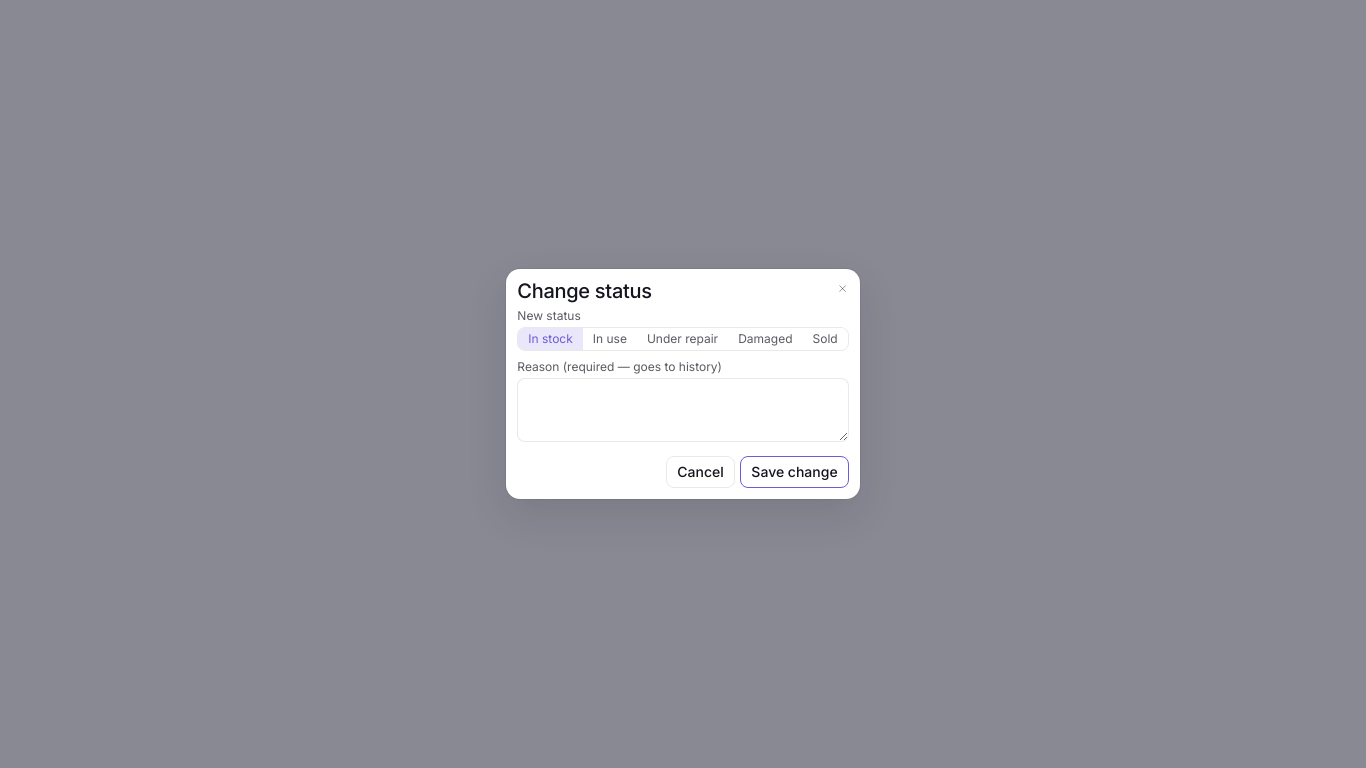
Test: ChangeStatusDialog › requires a reason before submitting
Click the button "Save change".
click(795, 472)  # box x1=740 y1=456 x2=849 y2=488
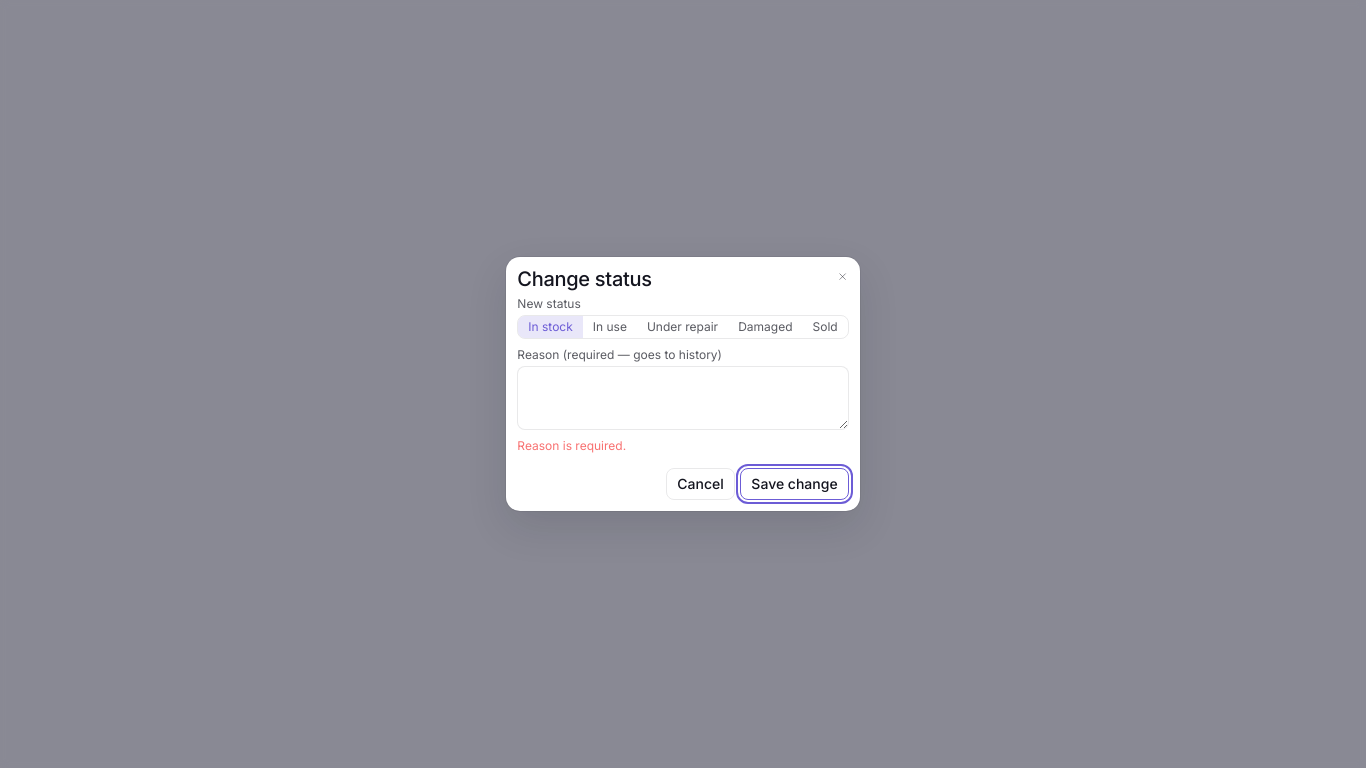
Expected: the text "Reason is required." is shown, x1=517 y1=438 x2=626 y2=453
